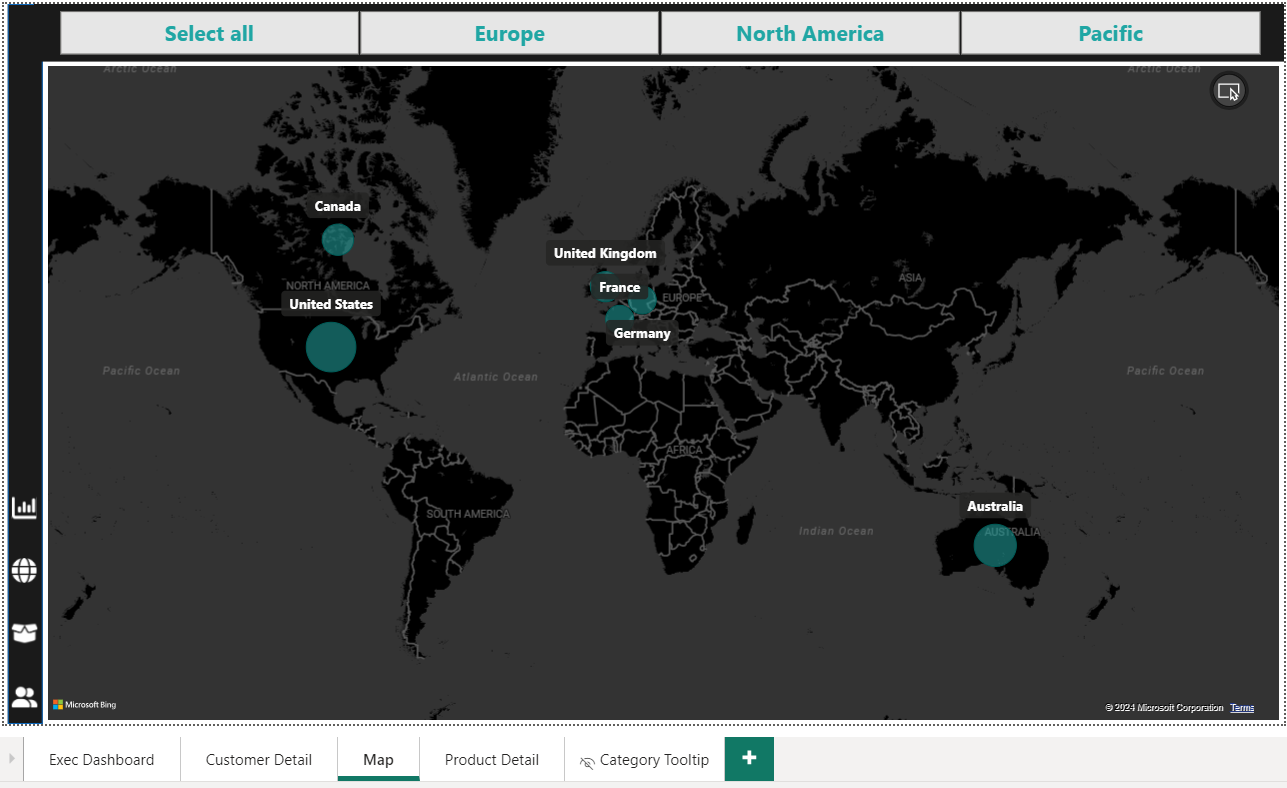

What the dashboard file says about the page in this screenshot:
{"tool":"powerbi","page":{"name":"Map","canvas":[1280,720],"ordinal":2},"visuals":[{"type":"map","fields":{"Category":["Territory Lookup.Country"],"Size":["Measure Table.Total Orders"]},"box":[38.8,57.5,1241.2,662.5],"z":0},{"type":"shape","box":[3.8,0,35,720],"z":1000},{"type":"slicer","fields":{"Values":["Territory Lookup.Continent"]},"box":[30,0,1250,57.5],"z":2000},{"type":"actionButton","box":[3.8,487.9,35,32.9],"z":3000},{"type":"actionButton","box":[3.8,550.4,35,32.9],"z":4000},{"type":"actionButton","box":[3.8,612.9,35,33.8],"z":5000},{"type":"actionButton","box":[3.8,676.2,35,33.8],"z":6000}]}

Visuals, with their boxes in screenshot pixels (x1, y1, x2, y2):
map - Territory Lookup.Country x Measure Table.Total Orders: 42 57 1273 714
shape: 7 0 42 714
slicer - Territory Lookup.Continent: 33 0 1273 57
actionButton: 7 484 42 516
actionButton: 7 546 42 578
actionButton: 7 608 42 641
actionButton: 7 670 42 704
